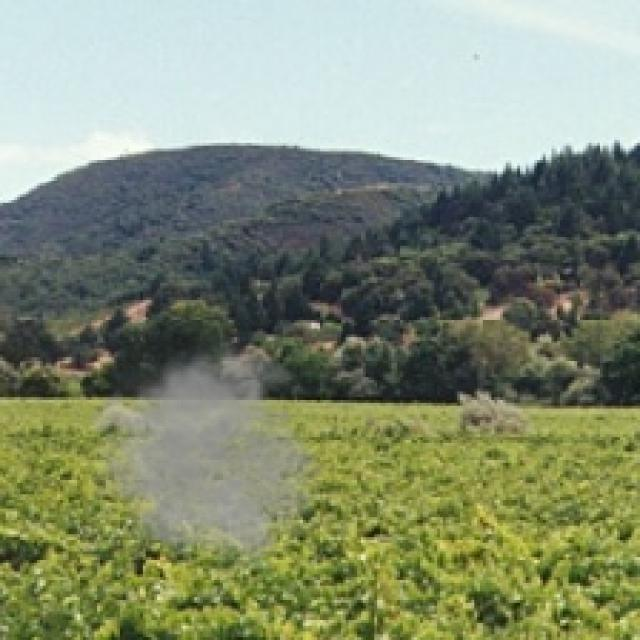smoke: (83, 332, 328, 568)
